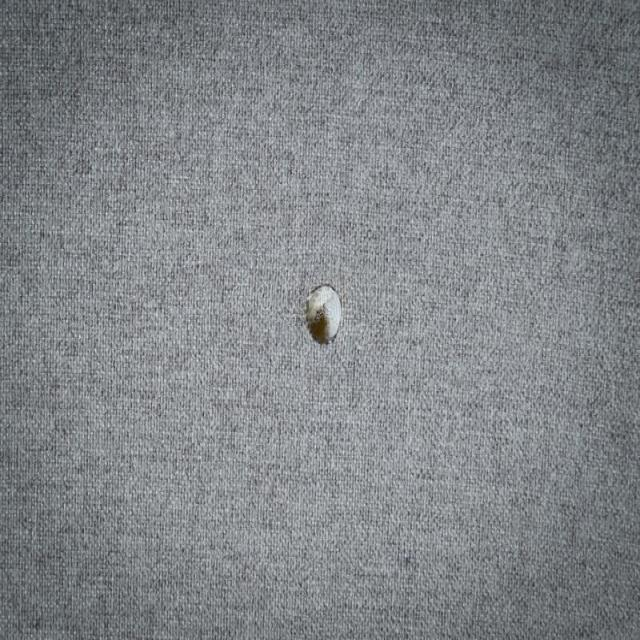Hole: (306, 286, 342, 344)
